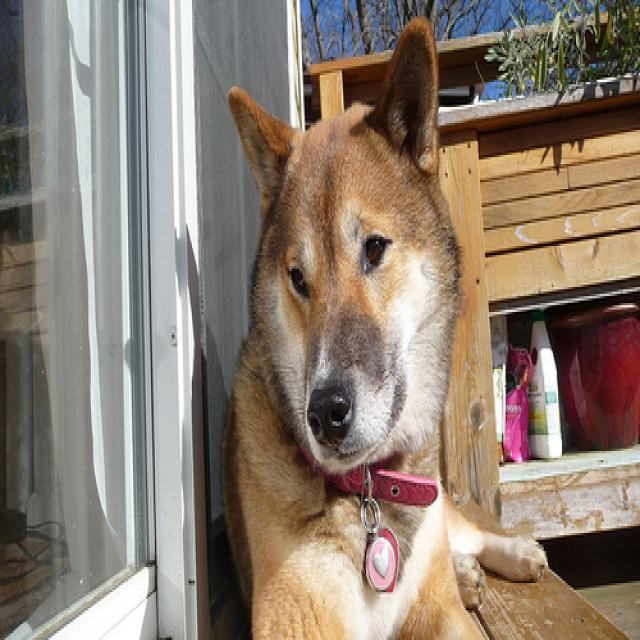dog-shiba_inu: (214, 11, 553, 635)
